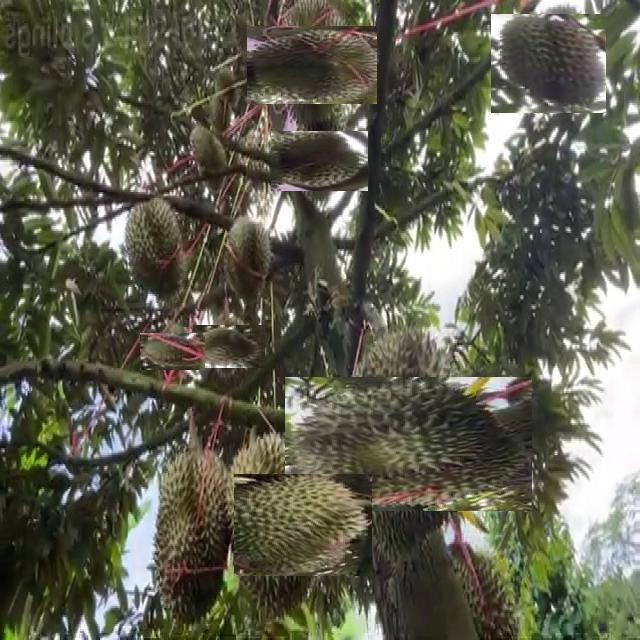durian: (314, 349, 504, 539), (201, 451, 350, 598), (152, 445, 234, 634), (494, 10, 602, 117), (259, 13, 364, 117), (122, 196, 192, 306), (281, 122, 359, 200), (220, 214, 274, 308), (200, 318, 259, 375), (147, 326, 198, 377)
